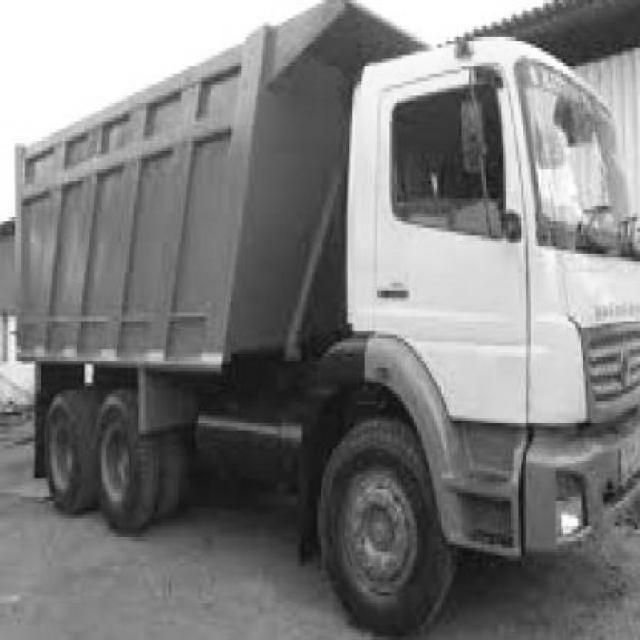Box Truck: (15, 0, 640, 637)
